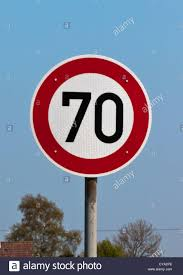Speed_limit_70km: (30, 53, 153, 175)
